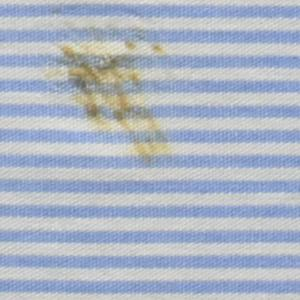Oil Stain: (44, 2, 183, 173)
